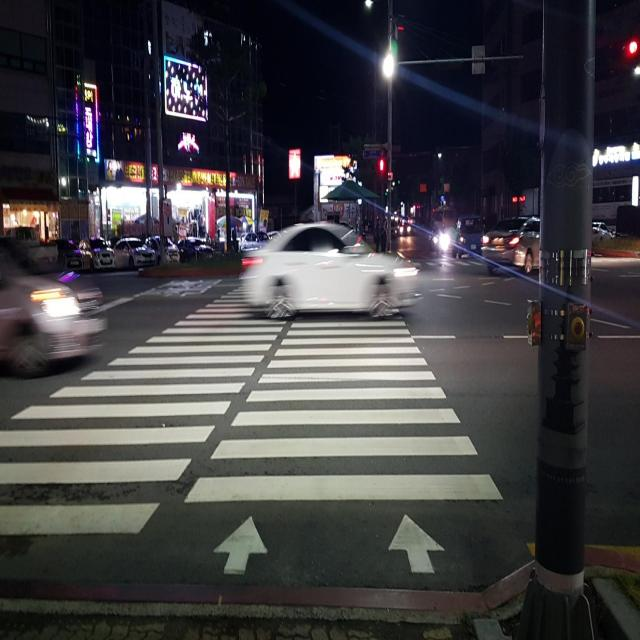빨간불: (375, 157, 388, 192)
횡단보도: (0, 279, 504, 577)
